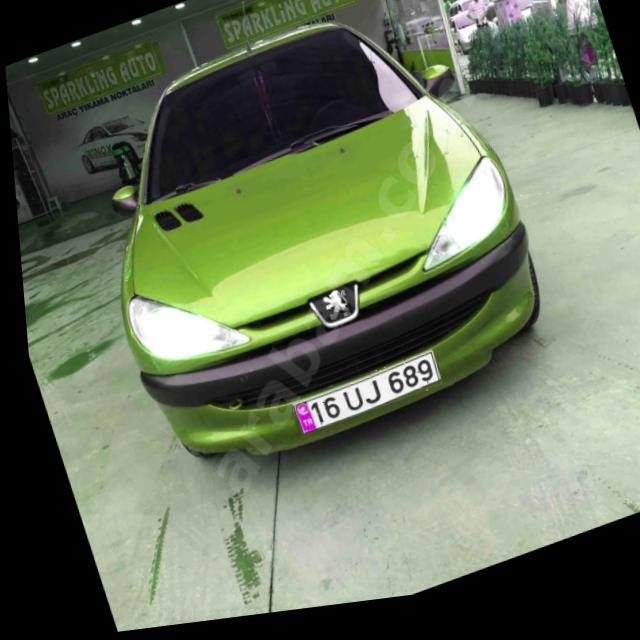license_plate: (281, 358, 439, 443)
